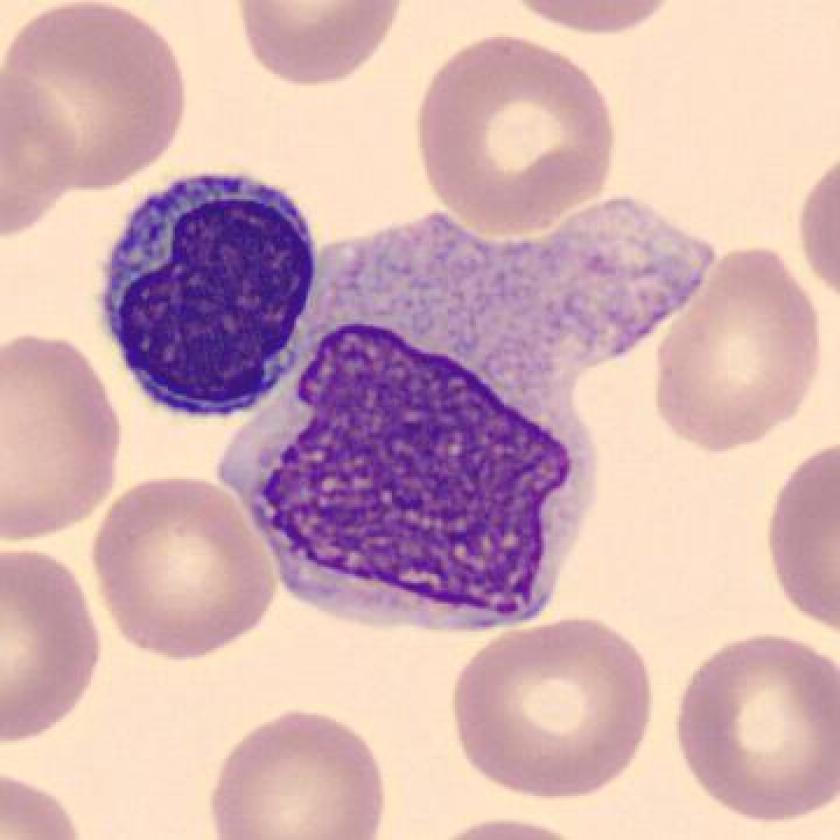monocyte: (195, 191, 736, 651)
